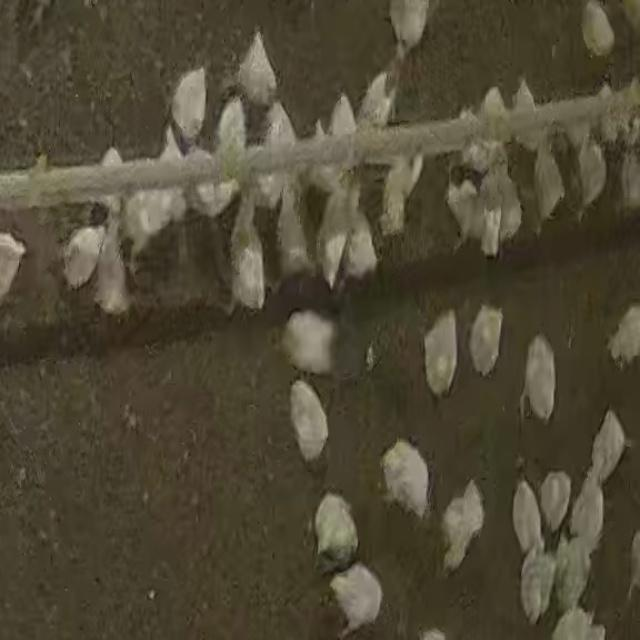chicken: (121, 133, 185, 257), (228, 186, 266, 313), (318, 176, 356, 292), (380, 438, 432, 521), (280, 308, 338, 380), (327, 562, 384, 635), (440, 480, 486, 569), (380, 149, 426, 237), (262, 101, 299, 207), (340, 188, 380, 286), (95, 213, 132, 316), (289, 378, 331, 468), (313, 490, 358, 571), (522, 331, 558, 424), (422, 310, 459, 400), (304, 122, 346, 198), (474, 153, 504, 256), (586, 410, 625, 489), (236, 33, 280, 103), (556, 536, 592, 616), (533, 134, 564, 226), (217, 93, 248, 184), (279, 178, 308, 275), (519, 541, 555, 619), (170, 66, 207, 140), (468, 303, 504, 379), (568, 475, 606, 547), (61, 226, 104, 288), (494, 151, 525, 235), (445, 175, 481, 247), (95, 144, 127, 225), (511, 477, 544, 554), (576, 129, 606, 213), (599, 81, 637, 146), (388, 0, 430, 53), (538, 471, 571, 537), (330, 92, 356, 174), (511, 77, 540, 150), (478, 83, 510, 149), (607, 304, 640, 368), (358, 71, 396, 126), (580, 0, 617, 56), (0, 232, 28, 305), (619, 144, 640, 212), (594, 80, 614, 134), (160, 124, 186, 164)
